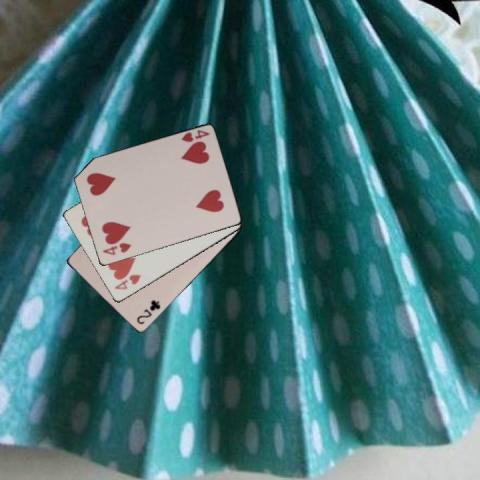2c: (134, 297, 162, 326)
4h: (111, 272, 143, 291), (99, 240, 133, 257), (178, 127, 211, 144)
